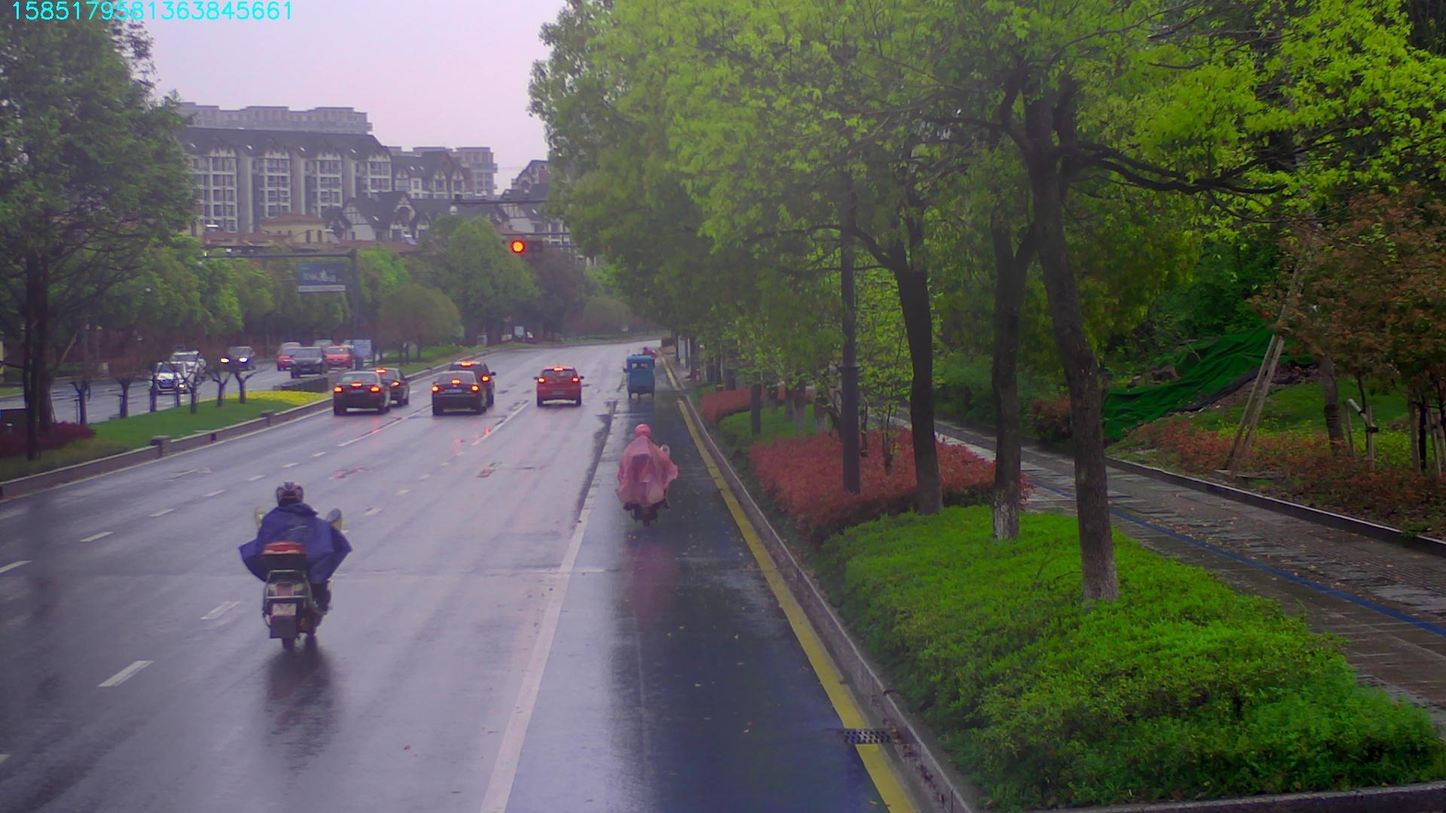red: (509, 239, 538, 250)
